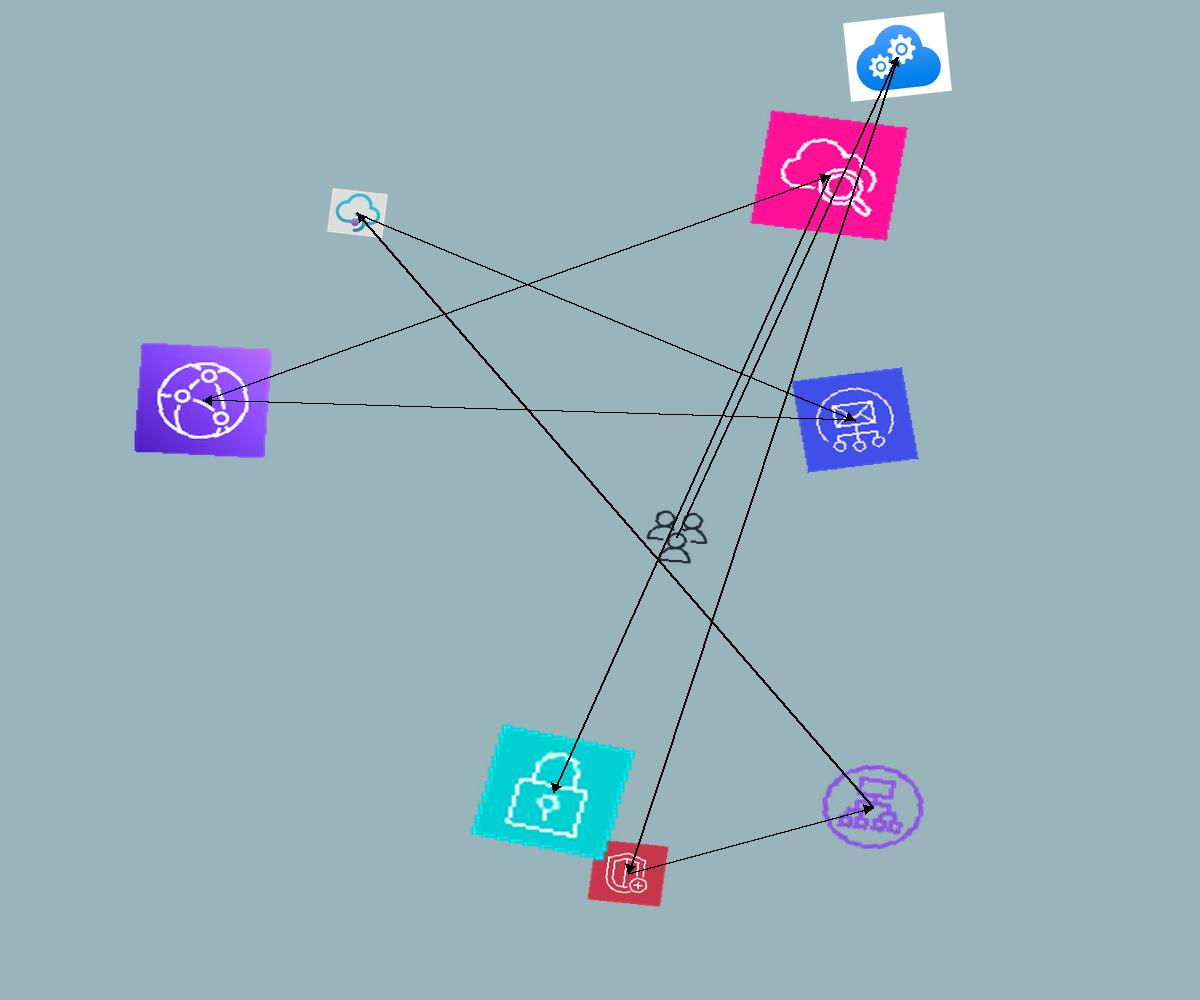AWS-CloudFront: (133, 342, 273, 459)
AWS-CloudWatch: (750, 110, 908, 241)
AWS-Private-subnet: (468, 722, 638, 863)
AWS-Res_Elastic-Load-Balancing_Application-Load-Balancer: (809, 754, 937, 860)
AWS-Res_Users: (640, 506, 714, 568)
AWS-Shield: (587, 839, 669, 907)
AWS-Simple-Email-Service: (791, 367, 919, 473)
Azure_api_gateway: (327, 188, 388, 238)
Azure_cloud_services: (843, 12, 952, 102)
